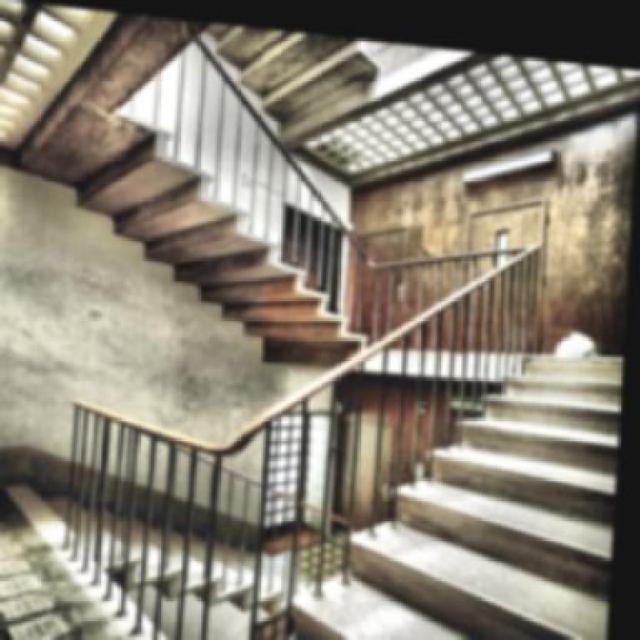stair: (252, 227, 631, 638)
